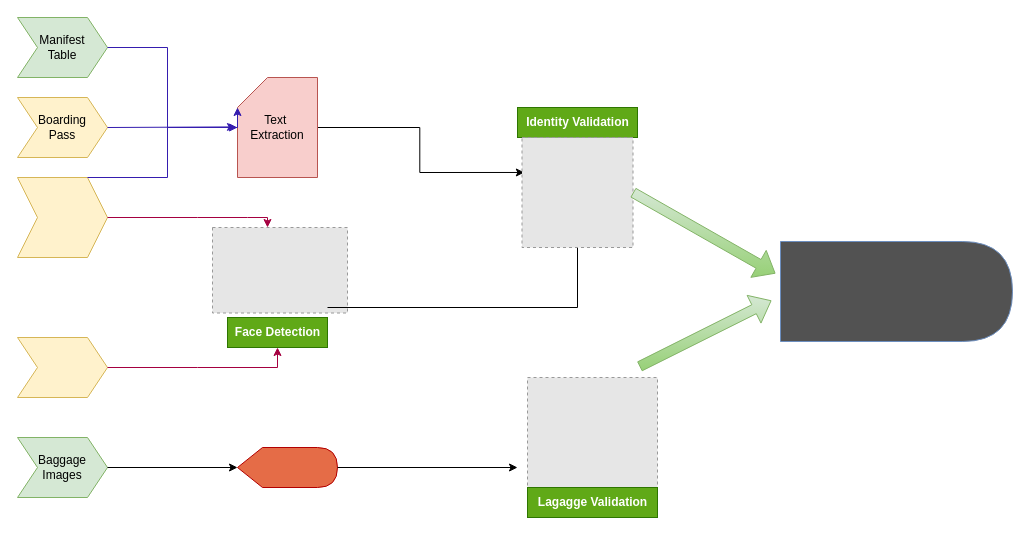
Image size: 1030x535. Some labels were removed from this diagram. Grey dashed boxes stand in for pictures. Here are the shapes that lost their labels. From the top down, the centre of each, then its label:
At (x=62, y=217): "ID Card".
At (x=896, y=291): "Automated Passenger Boarding Kiosk".
At (x=62, y=367): "Video".
At (x=287, y=467): "Object Detection".
